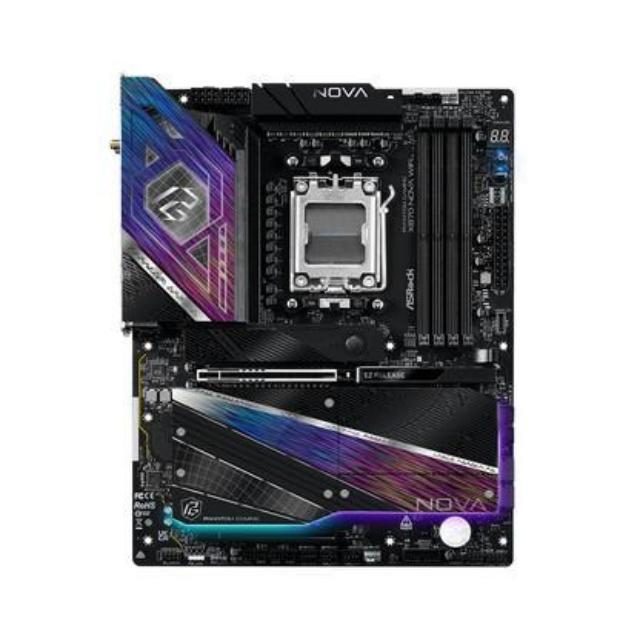Mainboard: (115, 68, 520, 577)
